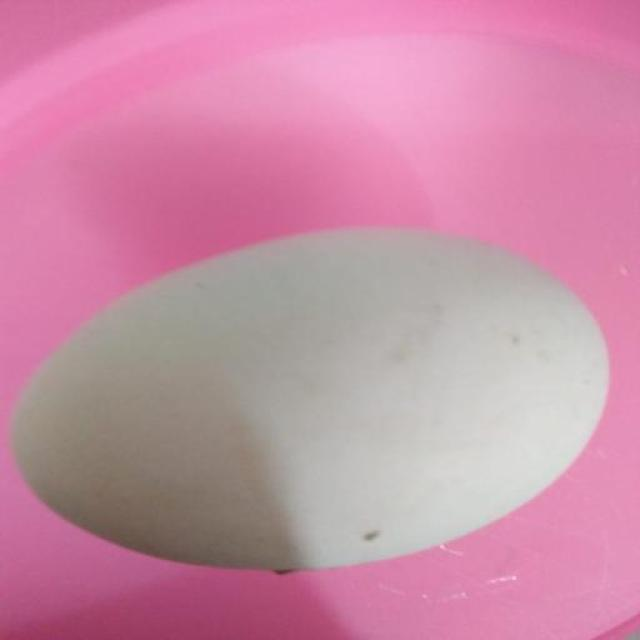telur: (1, 218, 616, 576)
